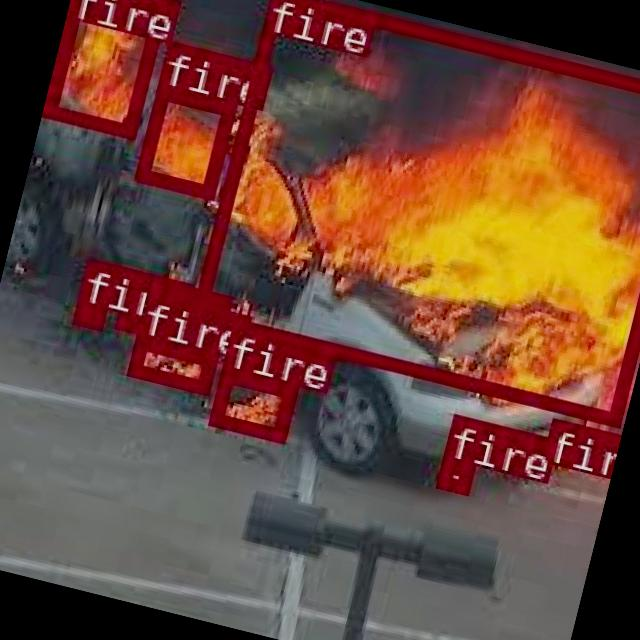fire: (188, 0, 640, 422), (41, 0, 164, 136), (133, 84, 234, 197), (208, 366, 297, 441), (124, 332, 214, 392), (540, 414, 613, 472), (434, 456, 472, 491), (72, 299, 102, 326), (115, 312, 146, 332)
